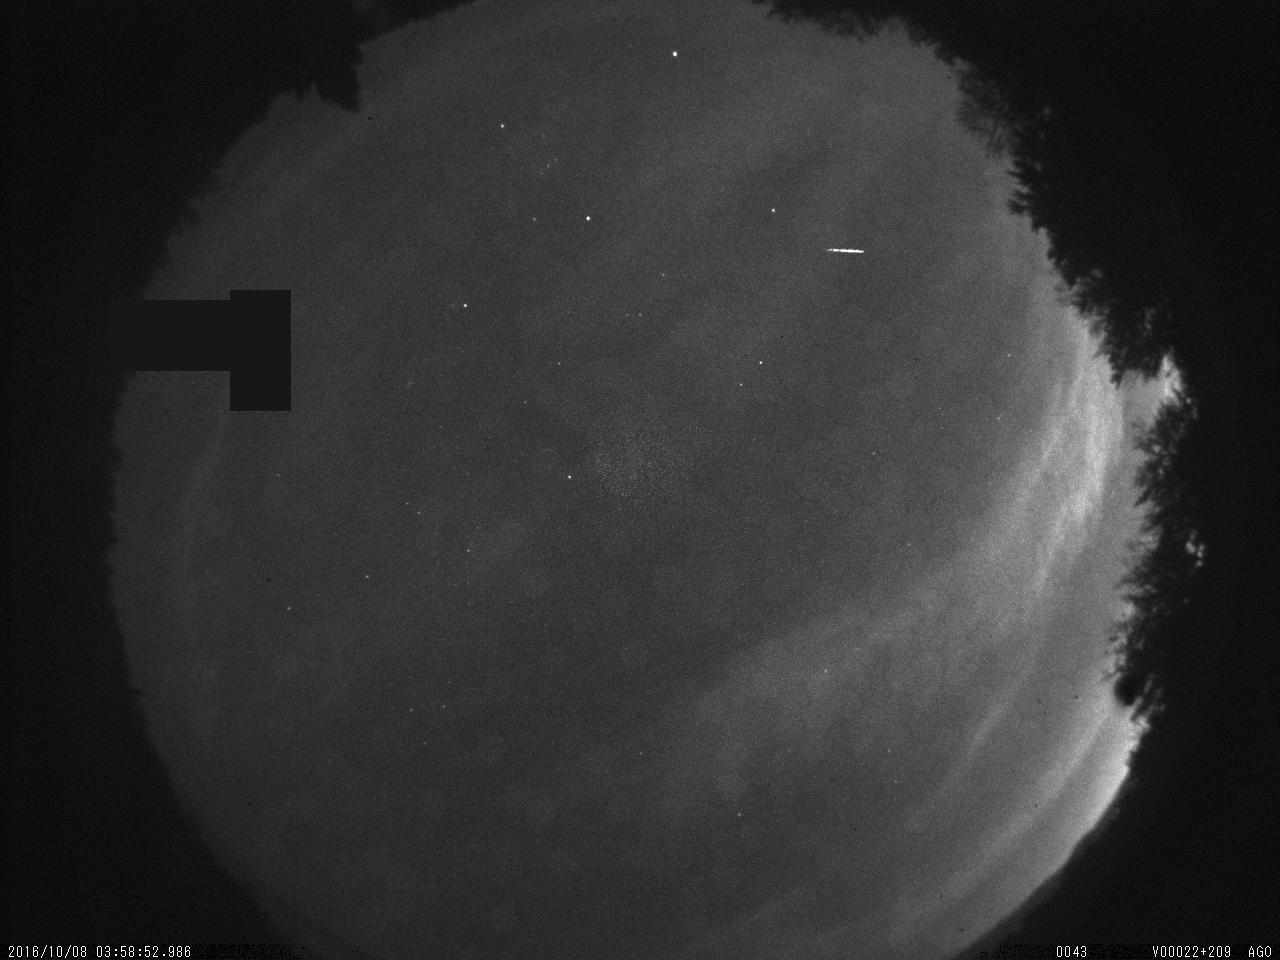meteor: (818, 242, 872, 263)
